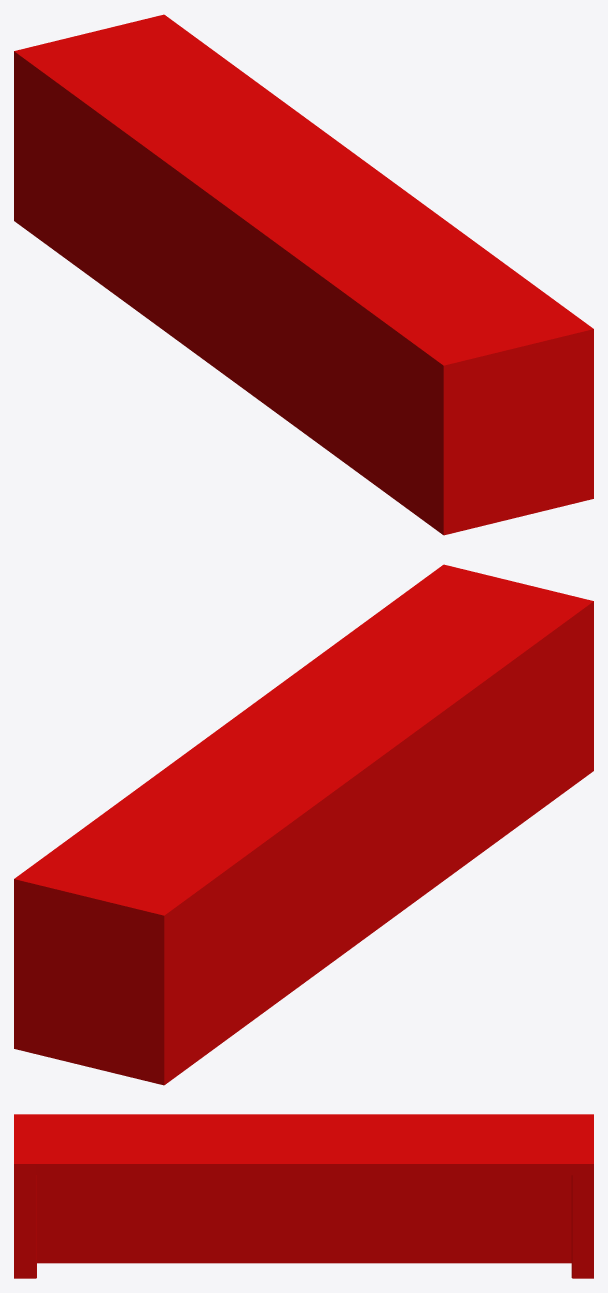
File: wall_type_A_sub_01.fbx
3 renders of one model, top to bottom at view 1: azimuth 30°, elevation 25°; view 2: azimuth 150°, elevation 25°; view 3: azimuth 270°, elevation 25°, orthographic. The views are drawn at different scales.
Visible parts, largest first — view 1: wall_type_A_sub_01; view 2: wall_type_A_sub_01; view 3: wall_type_A_sub_01.
Boxes of the visible parts, box(x1,y1,x2,y2) form: wall_type_A_sub_01: box(14, 14, 593, 535); wall_type_A_sub_01: box(14, 564, 593, 1085); wall_type_A_sub_01: box(14, 1114, 593, 1278).
Size of the model in its own units: 121 by 131 by 600.
